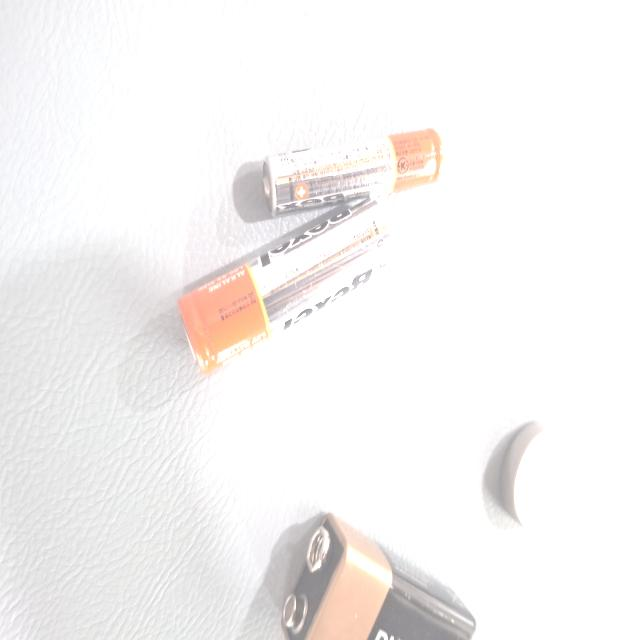9V: (386, 220, 480, 478)
AA: (148, 330, 276, 612)
AAA: (96, 262, 164, 500)
COIN: (315, 77, 403, 187)
